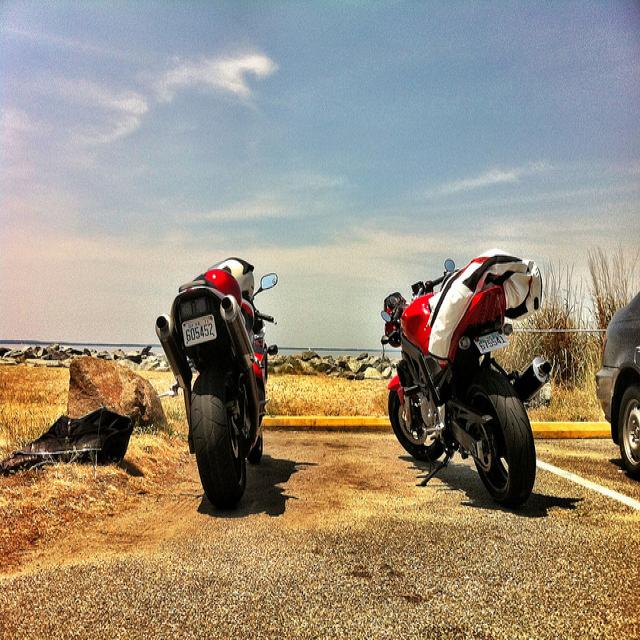motor: (382, 247, 550, 500), (158, 256, 280, 514)
